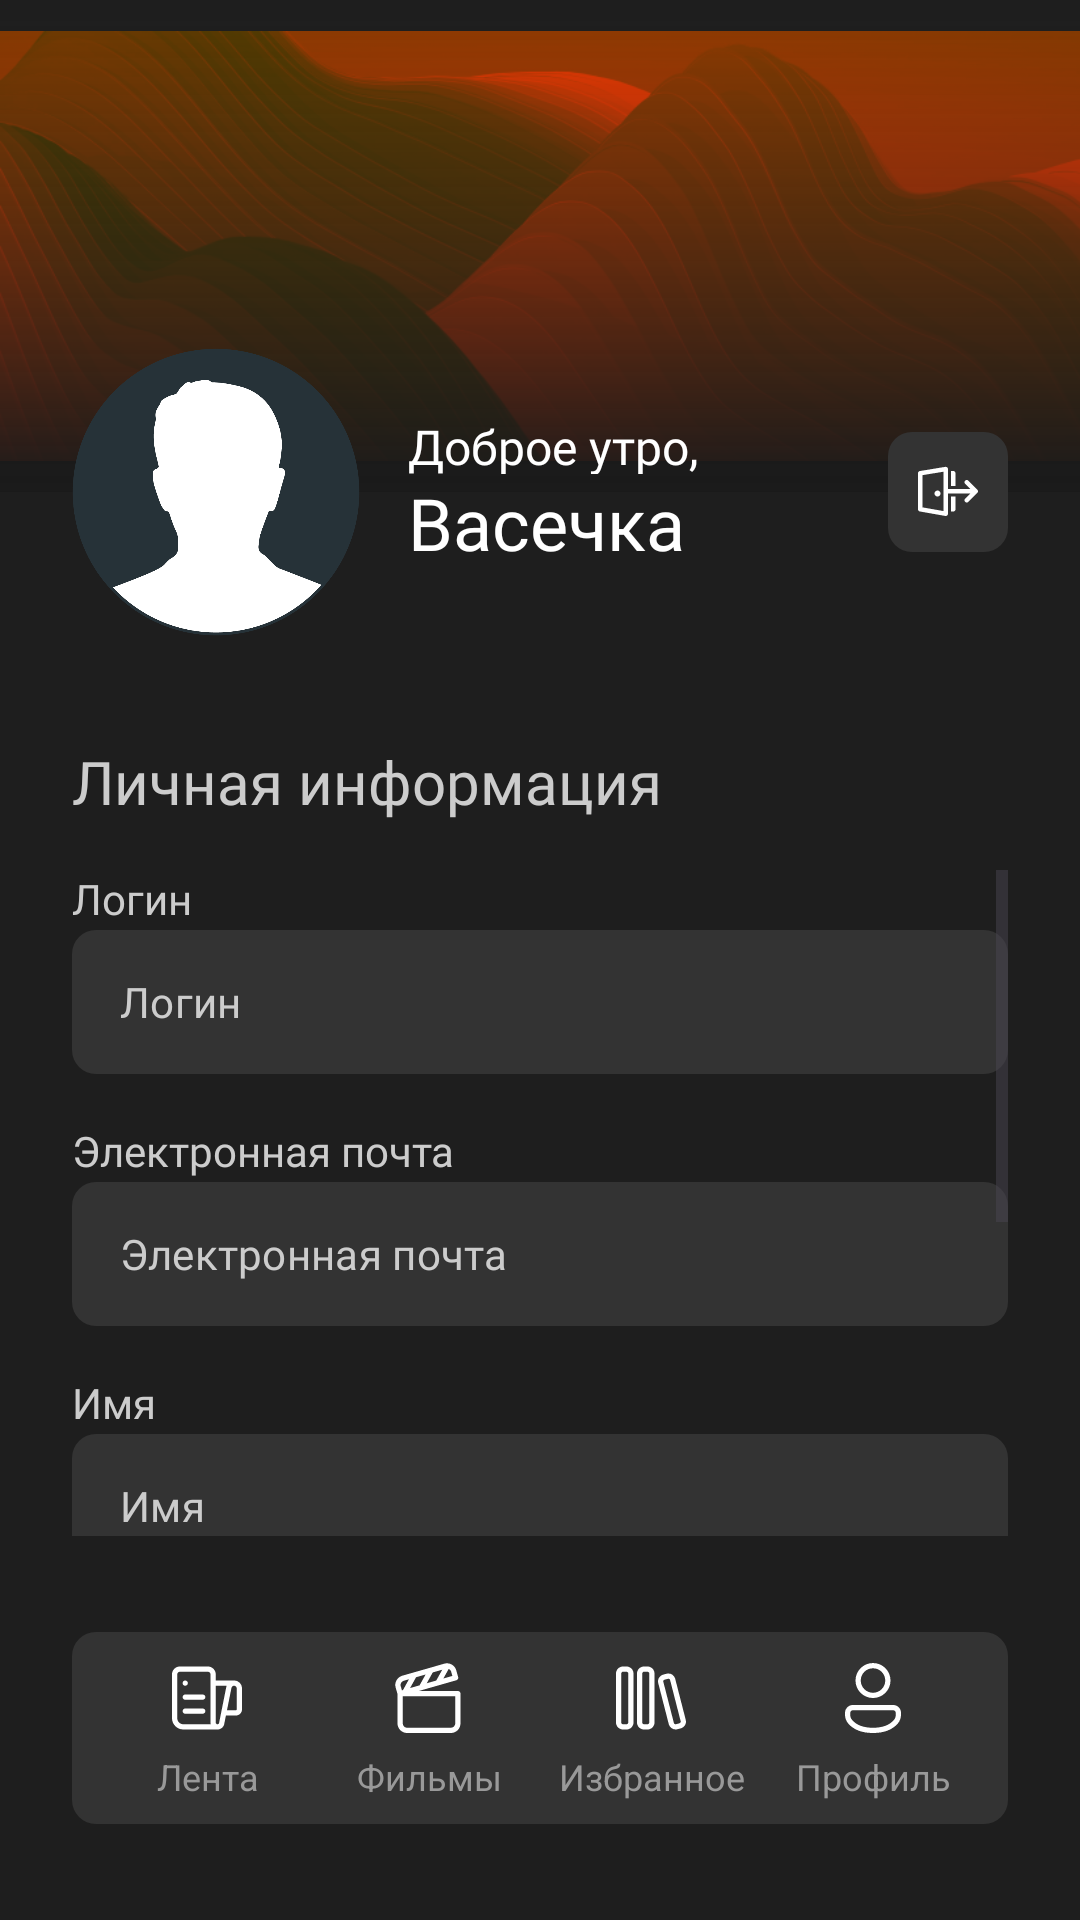

Locate icon controls on the screen. Image size 1080px×1920px, boxes as {"left": x1, "top": y1, "right": x2, "bottom": y2}.
library: {"left": 616, "top": 1666, "right": 686, "bottom": 1730}
Sign out button: {"left": 888, "top": 432, "right": 1008, "bottom": 552}
